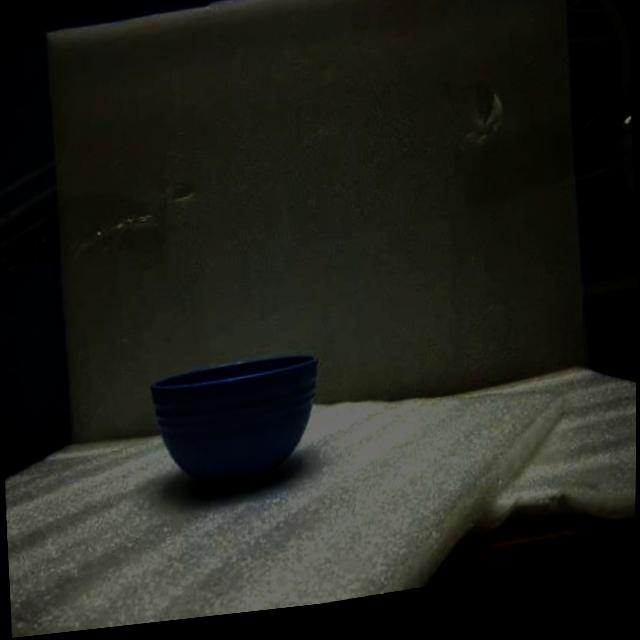Bowl: (152, 358, 316, 489)
